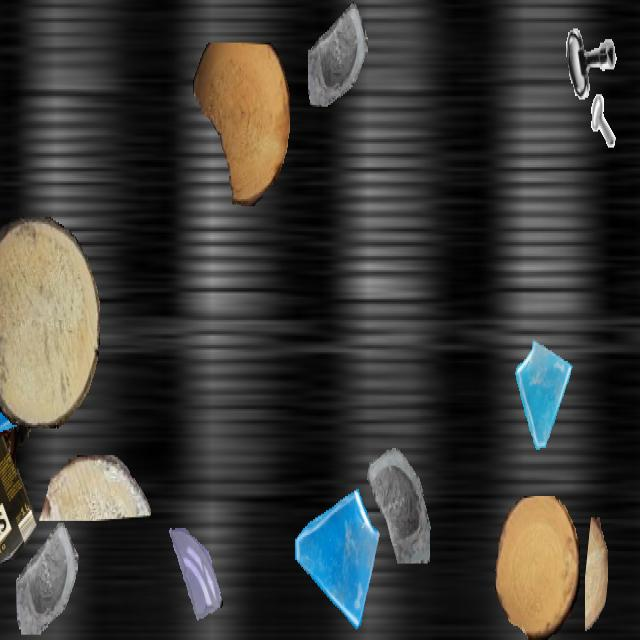glass: (291, 478, 381, 638), (357, 426, 433, 562), (512, 338, 576, 452), (16, 523, 78, 633), (0, 220, 39, 384), (308, 2, 368, 108), (166, 524, 224, 628), (0, 338, 29, 452)
metal: (559, 2, 621, 112), (567, 91, 615, 176)
plastic: (0, 398, 37, 590)
wood: (0, 217, 99, 427), (193, 43, 289, 206), (495, 496, 579, 638), (37, 455, 151, 519), (585, 518, 607, 638)
